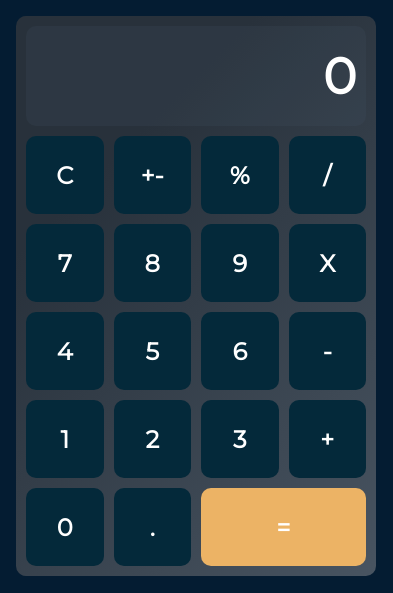
Test: check if invert is working
The width and height of the screenshot is (393, 593).
Click the button "9": coordinates (240, 263) [201,224,278,302]
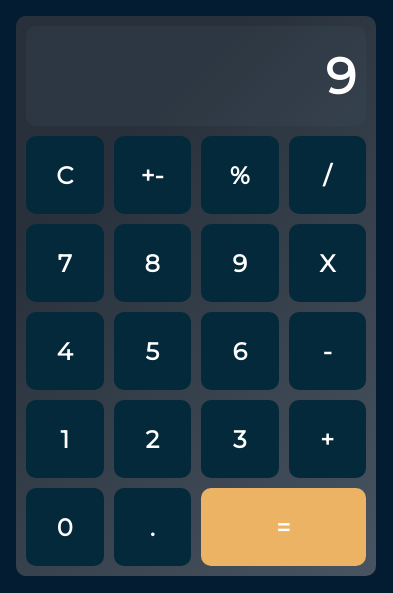
Click the button "+-": coordinates (152, 175) [114,136,191,214]
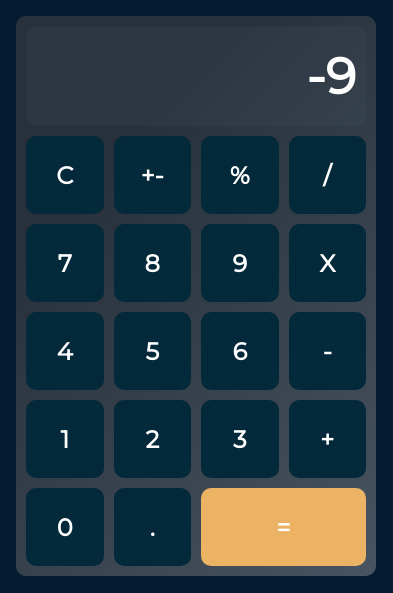
Expected: the text titled "screen" reads "-9", [306,46,356,106]
